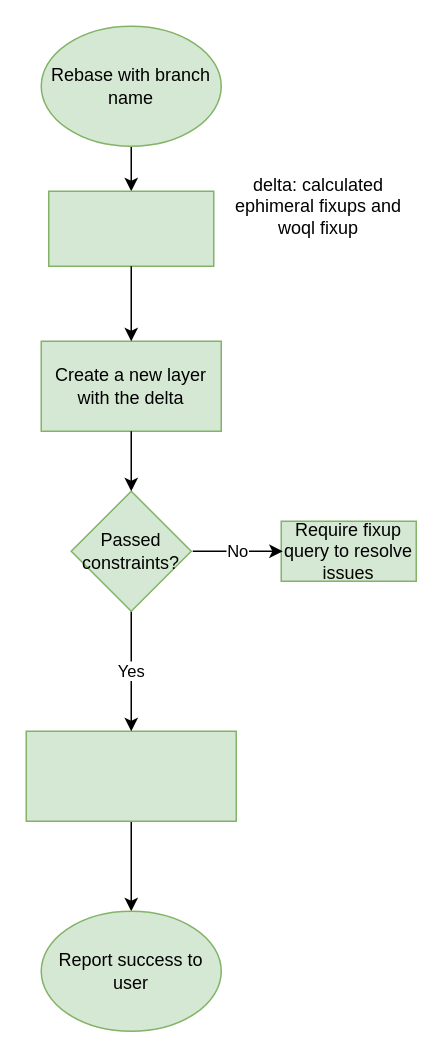
Image size: 443x1058. Some labels were removed from this diagram. Each missing label, with the centre of its shape:
Calculate delta between two branch refs: the point at 130,228
Write all the commits from derived branch to repo metadata graph: the point at 130,775
